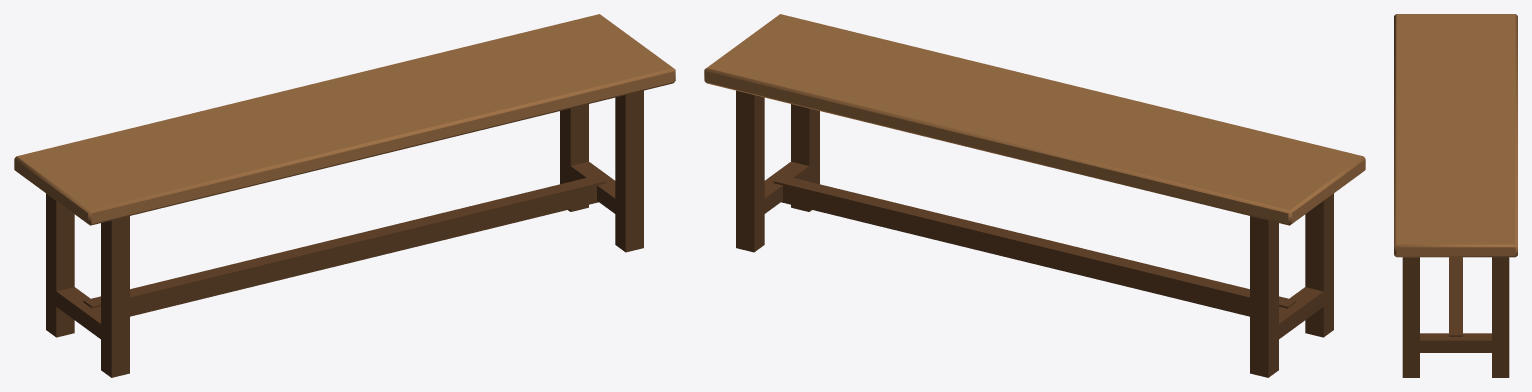
File: hall_bench.glb
The picture shows the model from 3 angles, left to right: view 1: azimuth 30°, elevation 25°; view 2: azimuth 150°, elevation 25°; view 3: azimuth 270°, elevation 25°; orthographic projection. The views are drawn at different scales.
Visible parts, largest first — view 1: HallBench; view 2: HallBench; view 3: HallBench.
Boxes of the visible parts, bbox=[...] form: HallBench: bbox=[14, 14, 675, 377]; HallBench: bbox=[704, 14, 1365, 377]; HallBench: bbox=[1394, 14, 1517, 377].
Bounding box in the file's own units: 1.6 × 0.46 × 0.36.
